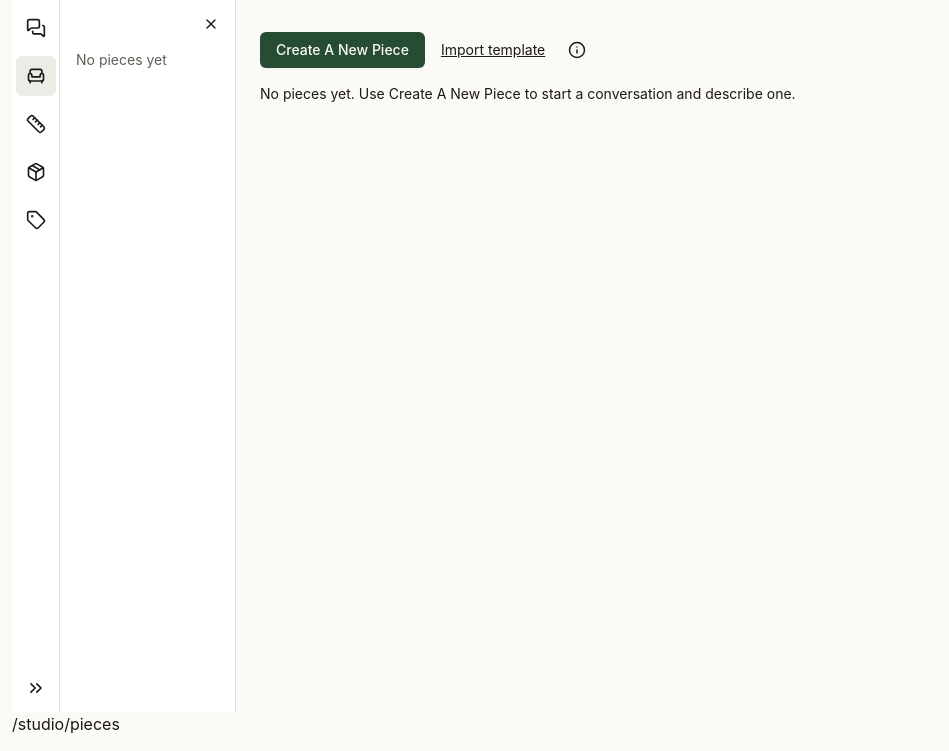
it: choosing a tab changes the address and shows only that tab
Click the tab named "Model Library" at (36, 172), box [26,162,46,182]
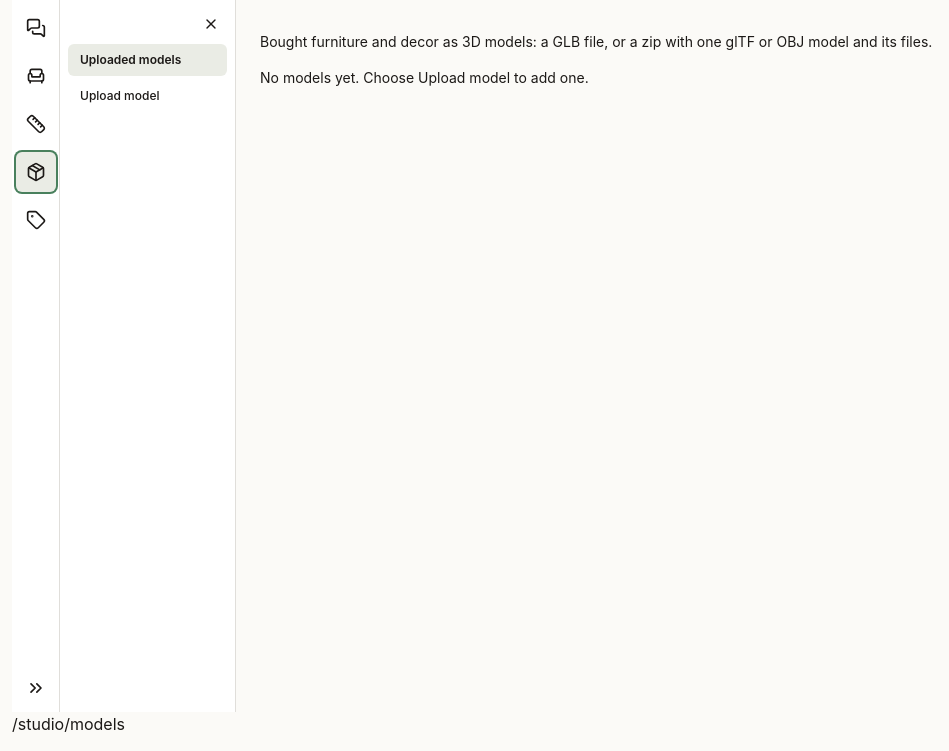
Expected: the text named "address" reads "/studio/models", [12,714,125,734]
Expected: the text "No models yet. Choose Upload model to add one." is shown, [260,69,589,86]
Expected: the button "Create A New Piece" is gone
